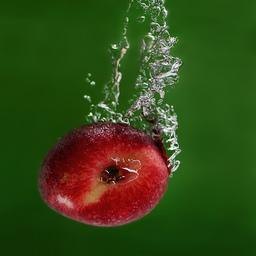apple: (38, 120, 170, 226)
